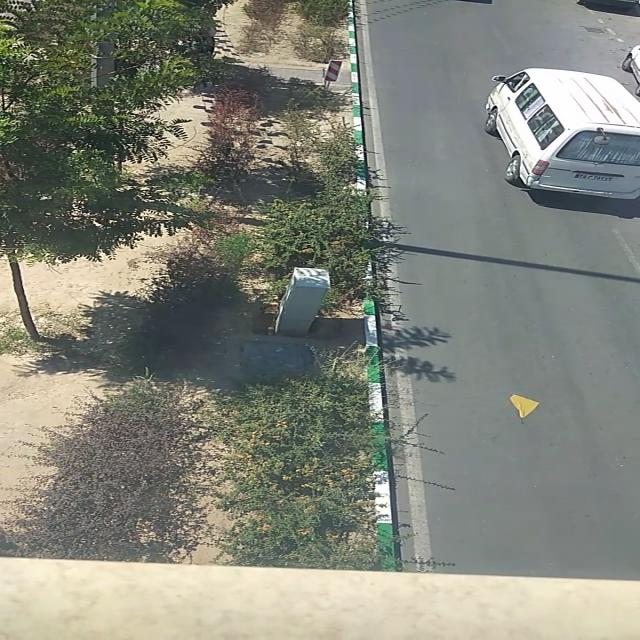car: (479, 65, 640, 201)
